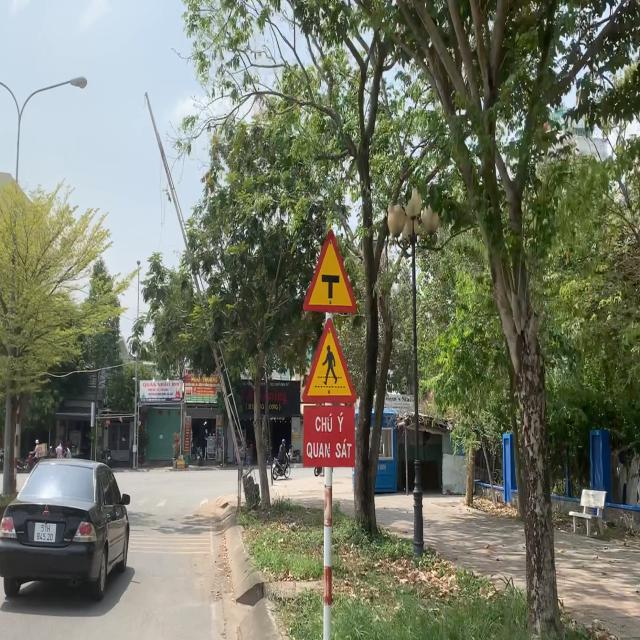Duong giao nhau: (302, 227, 358, 316)
Nguoi di bo cat ngang: (299, 317, 358, 405)
